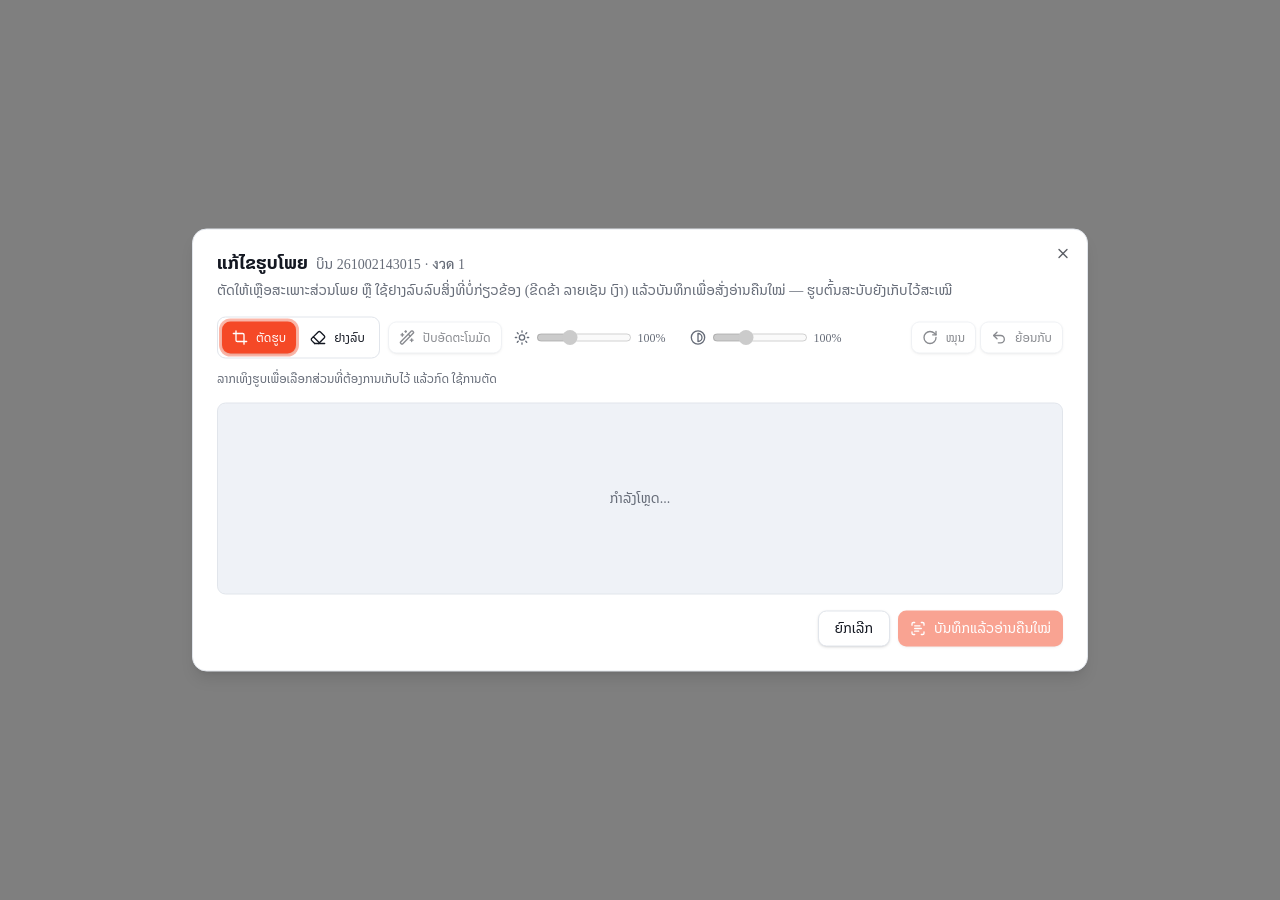
Test case: <ImageEditorDialog /> (แก้รูปโพยก่อนอ่านใหม่) › เลือกยางลบ → มีตัวปรับขนาดยางลบ
Click the radio button labelled "ຢາງລົບ".
click(337, 338)  # box [300,322,375,354]
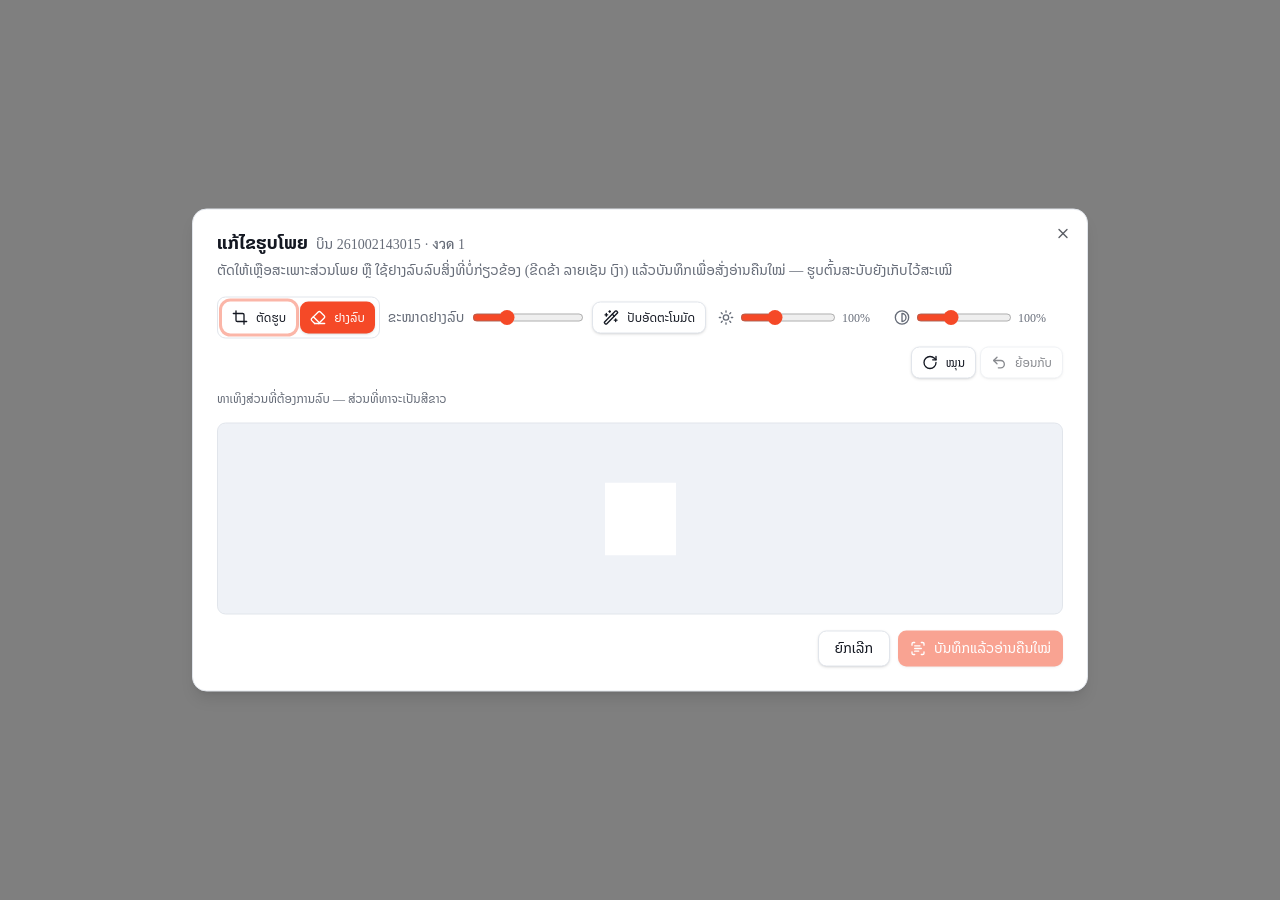
Check: the text "ທາເທິງສ່ວນທີ່ຕ້ອງການລົບ — ສ່ວນທີ່ທາຈະເປັນສີຂາວ" is shown, box [217,392,447,406]
Check: the slider labelled "ຂະໜາດຢາງລົບ" is shown, box [472,310,584,326]
